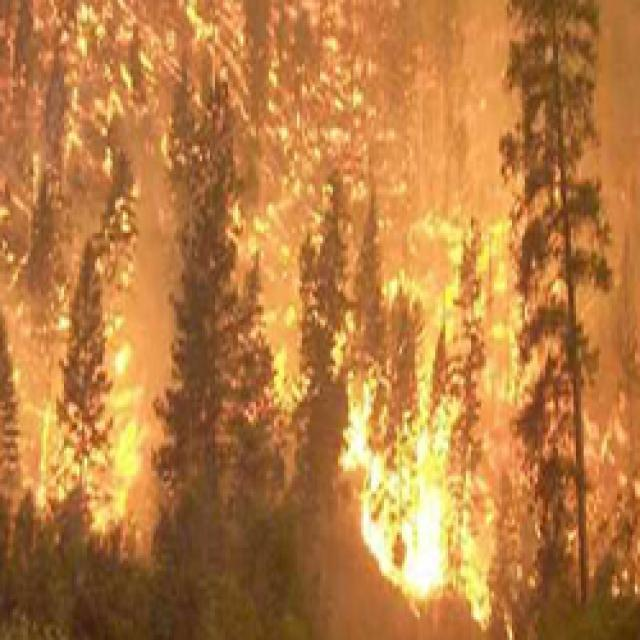Fire: (323, 230, 538, 635), (0, 236, 182, 589), (194, 195, 354, 499), (512, 317, 640, 640)
Smoke: (0, 0, 640, 274)
